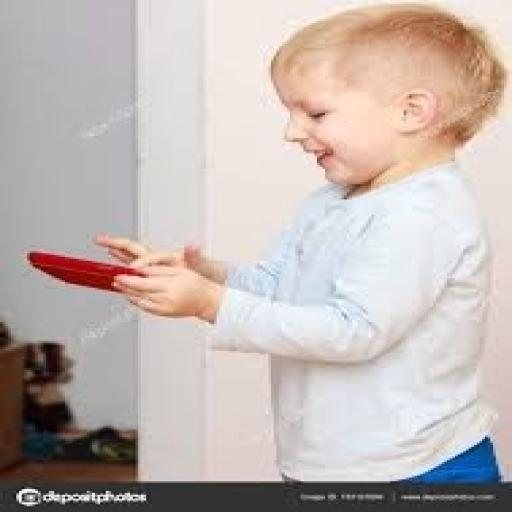texting: (92, 0, 509, 485)
